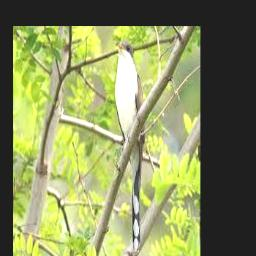Cuckoo: (113, 42, 145, 252)
